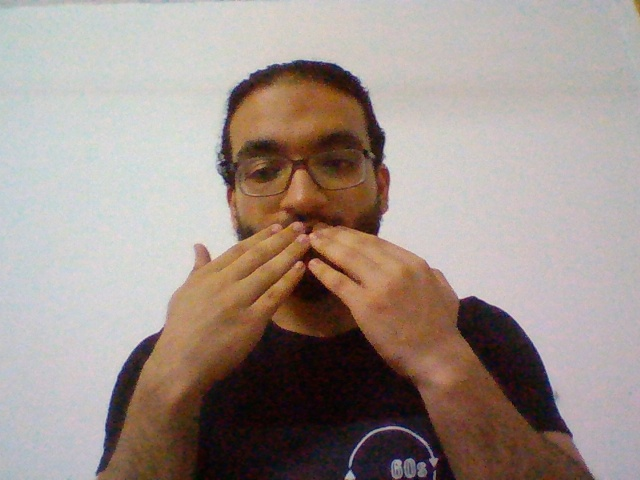Thanks: (139, 223, 498, 390)
